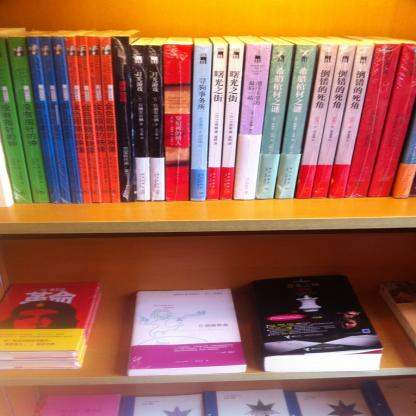book: (0, 26, 416, 202), (255, 272, 386, 372), (123, 288, 247, 374), (0, 281, 96, 376), (114, 28, 138, 202)
